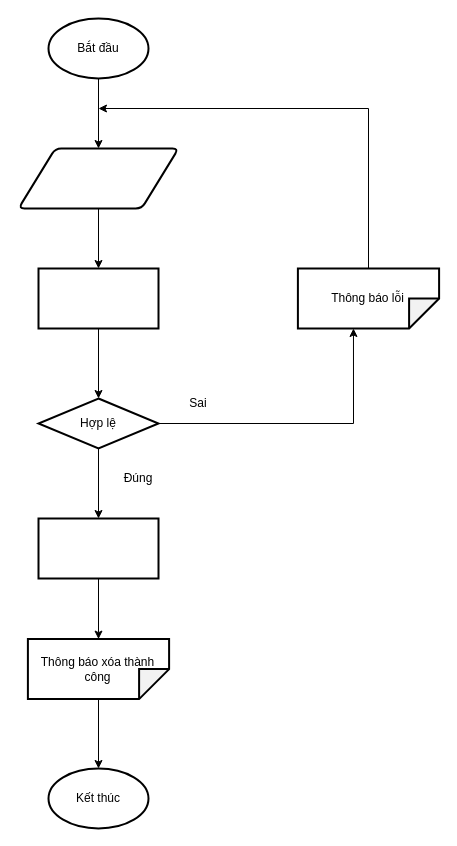
This 457x846 diagram has some shape labels left out. Each missing label, with the centre of its shape:
Cập nhật dữ liệu vào database: point (98, 548)
Kiểm tra tính hợp lệ của thông tin: point (98, 298)
Thông tin nhân viên cần xóa: point (98, 178)
